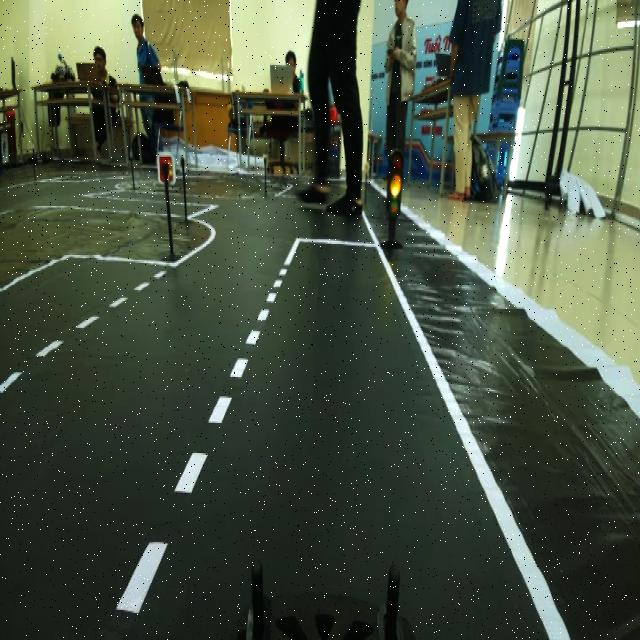trafficlight: (374, 141, 408, 257)
